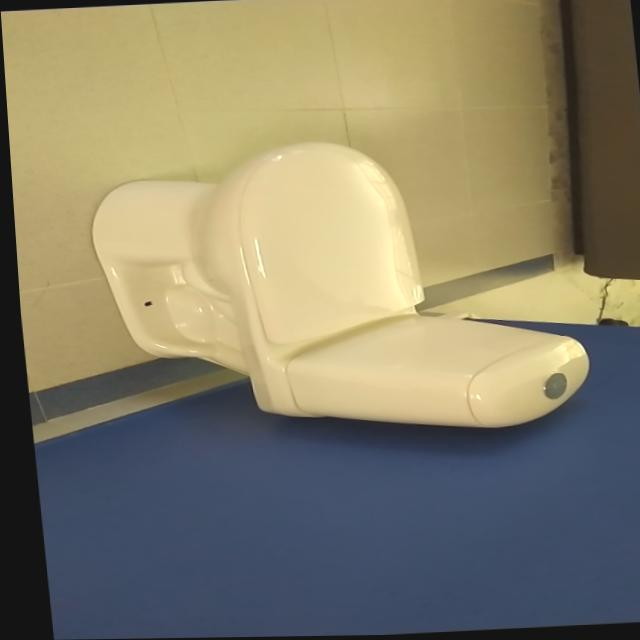toilet: (79, 130, 590, 449)
